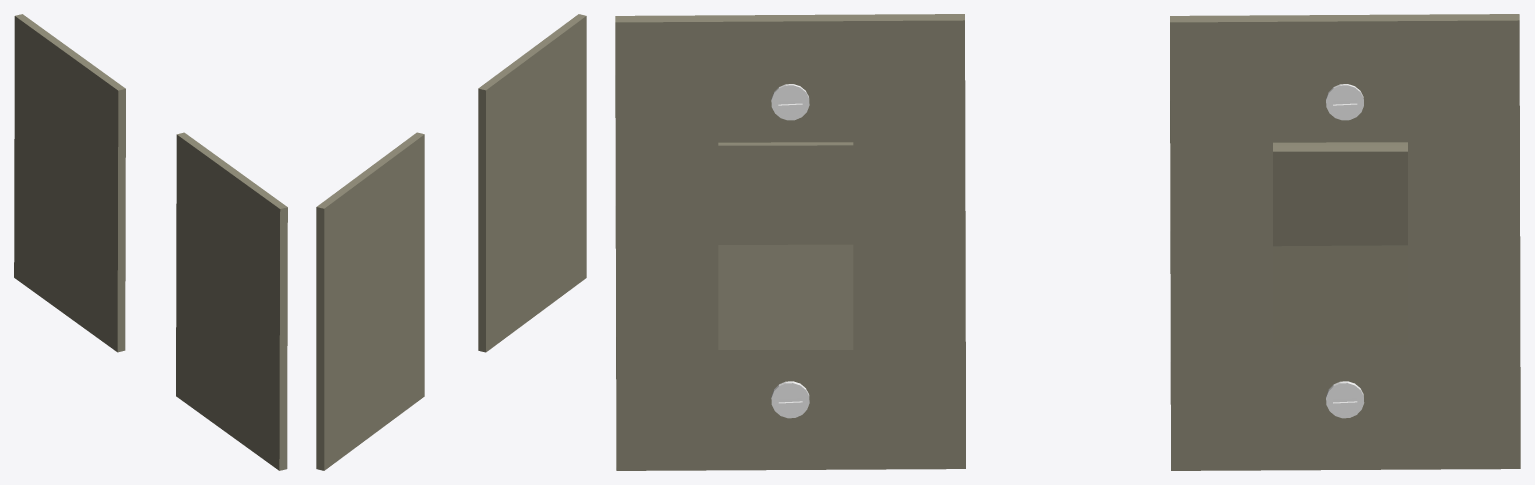
The model's file is LightSwitch_Off.glb.
The picture shows the model from 3 angles, left to right: view 1: azimuth 30°, elevation 25°; view 2: azimuth 150°, elevation 25°; view 3: azimuth 270°, elevation 25°; orthographic projection. The views are drawn at different scales.
Visible parts, largest first — view 1: LightBase, LightBase.001; view 2: LightBase, LightBase.001; view 3: LightBase.001, LightBase, LightSwitch, LightSwitch.001, ScrewTop.001, ScrewBottom_, ScrewBottom.001, ScrewTop_.
Part boxes in pixels (left/top/right/bottom): LightBase: left=176, top=132, right=287, bottom=470; LightBase.001: left=14, top=14, right=125, bottom=352; LightBase: left=478, top=14, right=586, bottom=352; LightBase.001: left=316, top=132, right=424, bottom=470; LightBase.001: left=1170, top=14, right=1520, bottom=470; LightBase: left=615, top=14, right=965, bottom=470; LightSwitch: left=718, top=142, right=853, bottom=349; LightSwitch.001: left=1273, top=142, right=1407, bottom=344; ScrewTop.001: left=771, top=381, right=809, bottom=418; ScrewBottom_: left=1326, top=381, right=1364, bottom=418; ScrewBottom.001: left=771, top=84, right=809, bottom=120; ScrewTop_: left=1326, top=84, right=1363, bottom=120.
Size of what is drawn, in the model's own units: 0.1598 by 2.07 by 3.79.
